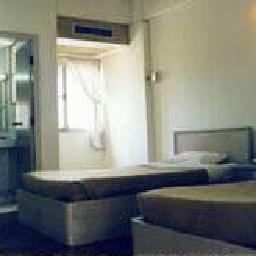Cama: (12, 144, 238, 247), (132, 179, 254, 252)
